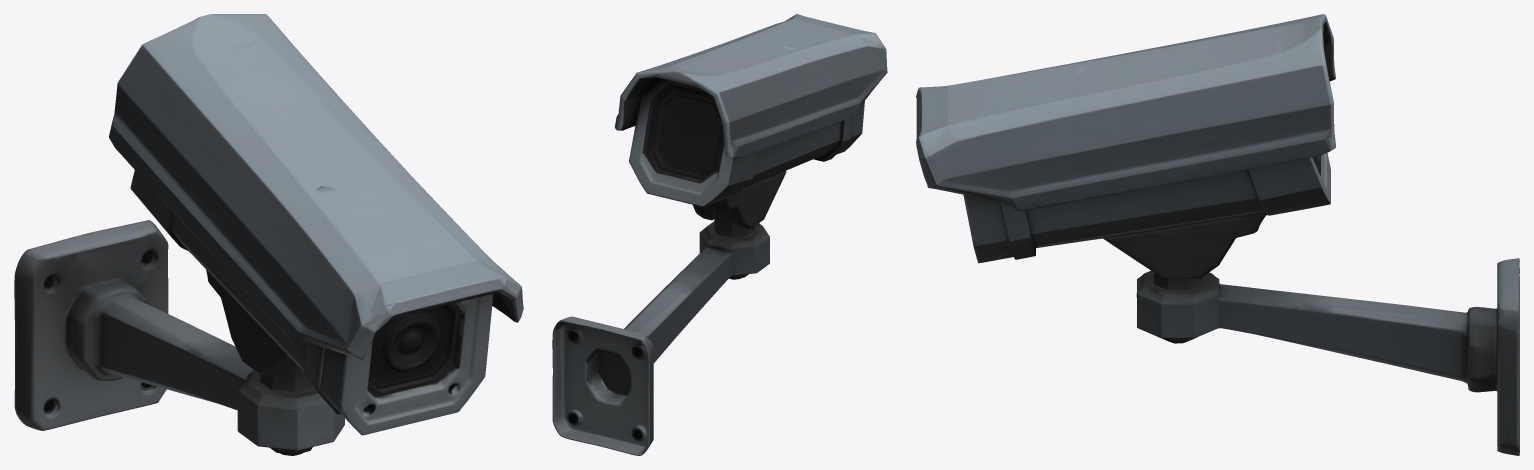
The model's file is OH_SecurityCamera.fbx.
3 renders of one model, left to right at view 1: azimuth 30°, elevation 25°; view 2: azimuth 150°, elevation 25°; view 3: azimuth 270°, elevation 25°, orthographic. The views are drawn at different scales.
Visible parts, largest first — view 1: node_0; view 2: node_0; view 3: node_0.
Part boxes in pixels (x1,y1,x2,y2): node_0: (14,14,523,455); node_0: (552,14,887,455); node_0: (916,14,1519,455).
Size of the model in its own units: 28.35 by 70.87 by 95.54.
Materials: 1 (1 with a texture image).
